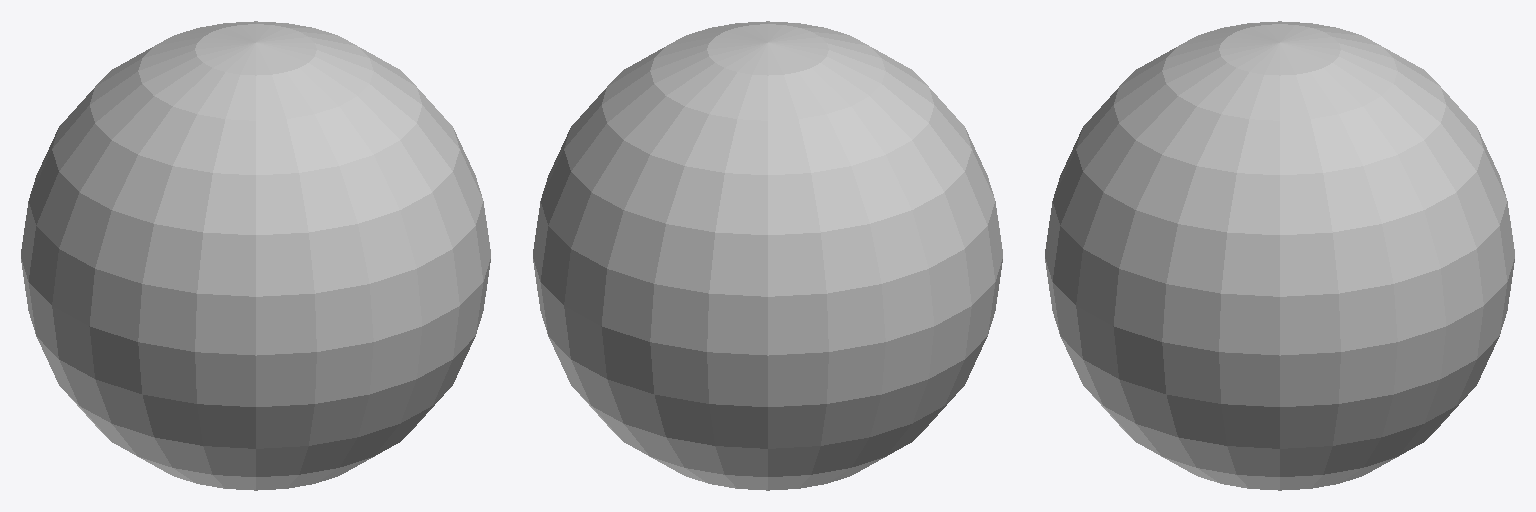
The model's file is Armature_001-(Wavefront OBJ).obj.
3 renders of one model, left to right at view 1: azimuth 30°, elevation 25°; view 2: azimuth 150°, elevation 25°; view 3: azimuth 270°, elevation 25°, orthographic.
Visible parts, largest first — view 1: Sphere-Bot_Leg.001; view 2: Sphere-Bot_Leg.001; view 3: Sphere-Bot_Leg.001.
Boxes of the visible parts, <box> form: Sphere-Bot_Leg.001: <box>21,21,490,490</box>; Sphere-Bot_Leg.001: <box>533,21,1002,490</box>; Sphere-Bot_Leg.001: <box>1045,21,1514,490</box>.
Bounding box in the file's own units: 2 × 2 × 2.